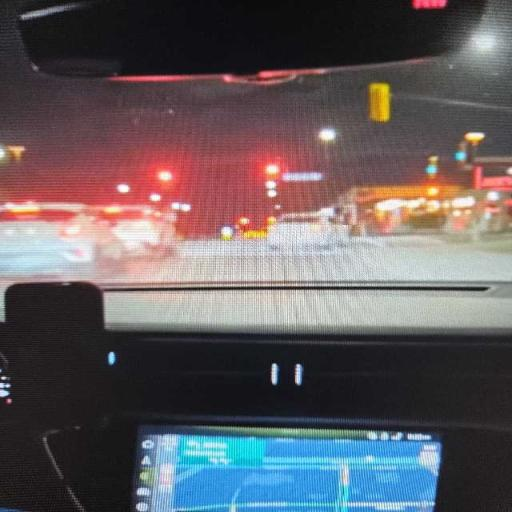car: (0, 0, 511, 511), (0, 203, 124, 273), (95, 206, 177, 256), (267, 214, 336, 249)
lane: (0, 237, 511, 286)
